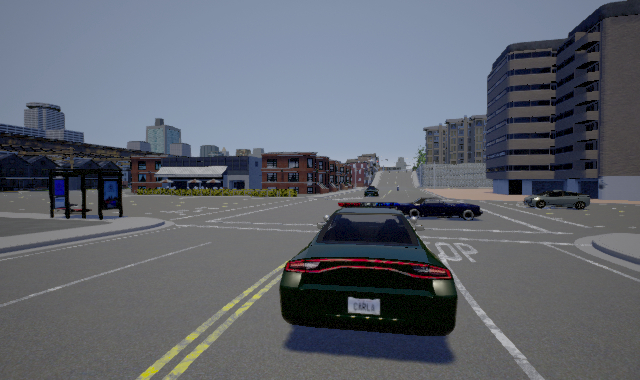vehicle: (277, 199, 458, 338), (399, 195, 483, 221), (523, 190, 590, 210), (363, 184, 379, 195)
